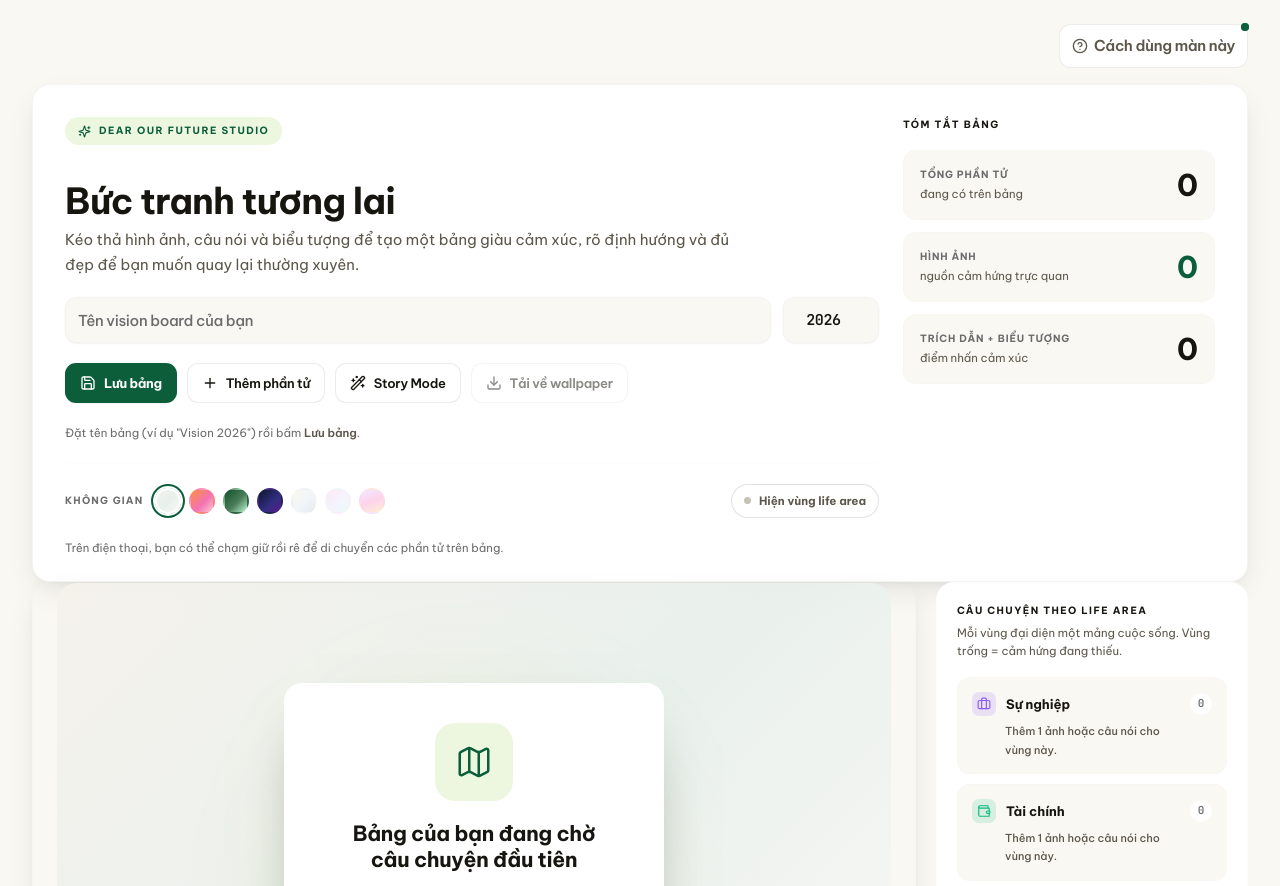
VisionBoardEditor add dialog › renders add tabs
Click the button "Thêm phần tử".
click(256, 383)  # box [187,363,325,403]
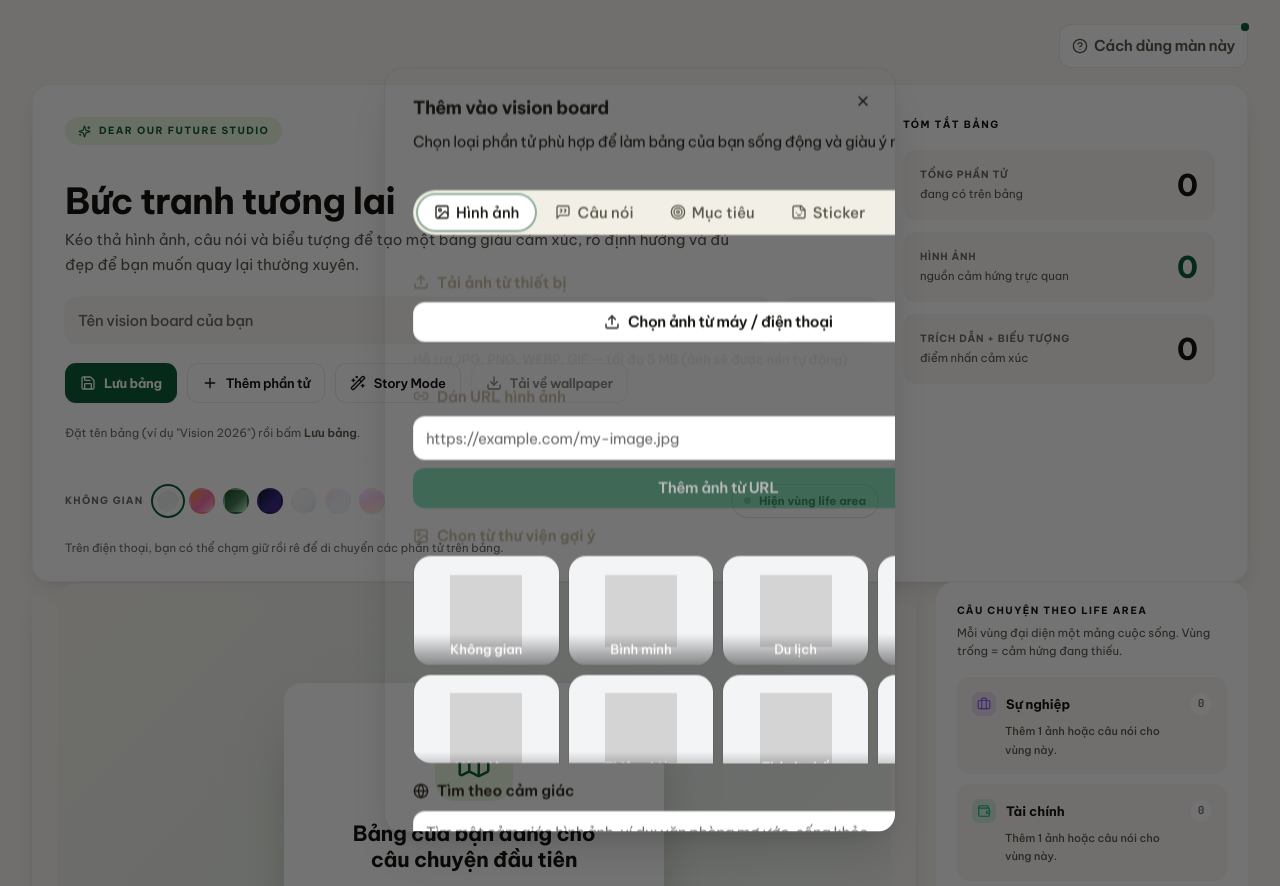
Now the number of tabs is 5
Now the tab "Mục tiêu" is shown, box [654,194,771,229]
Now the tab "Sticker" is shown, box [775,194,881,229]
